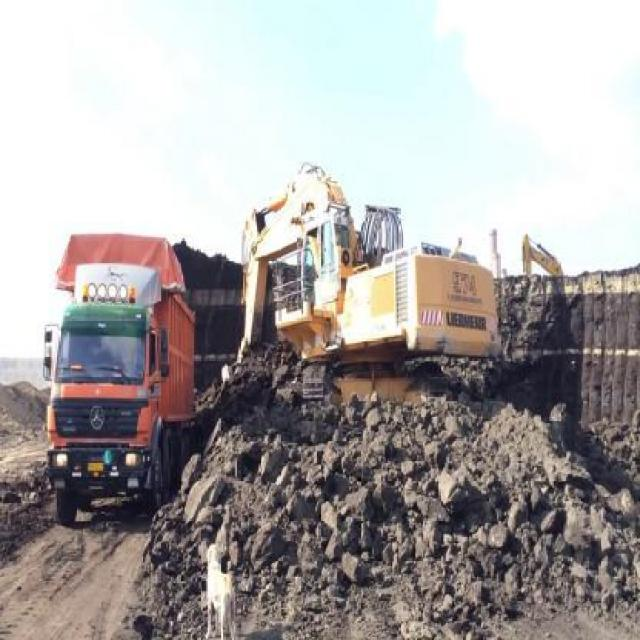Dump Truck: (43, 231, 191, 527)
Excavator: (233, 162, 499, 404), (522, 234, 566, 275)
